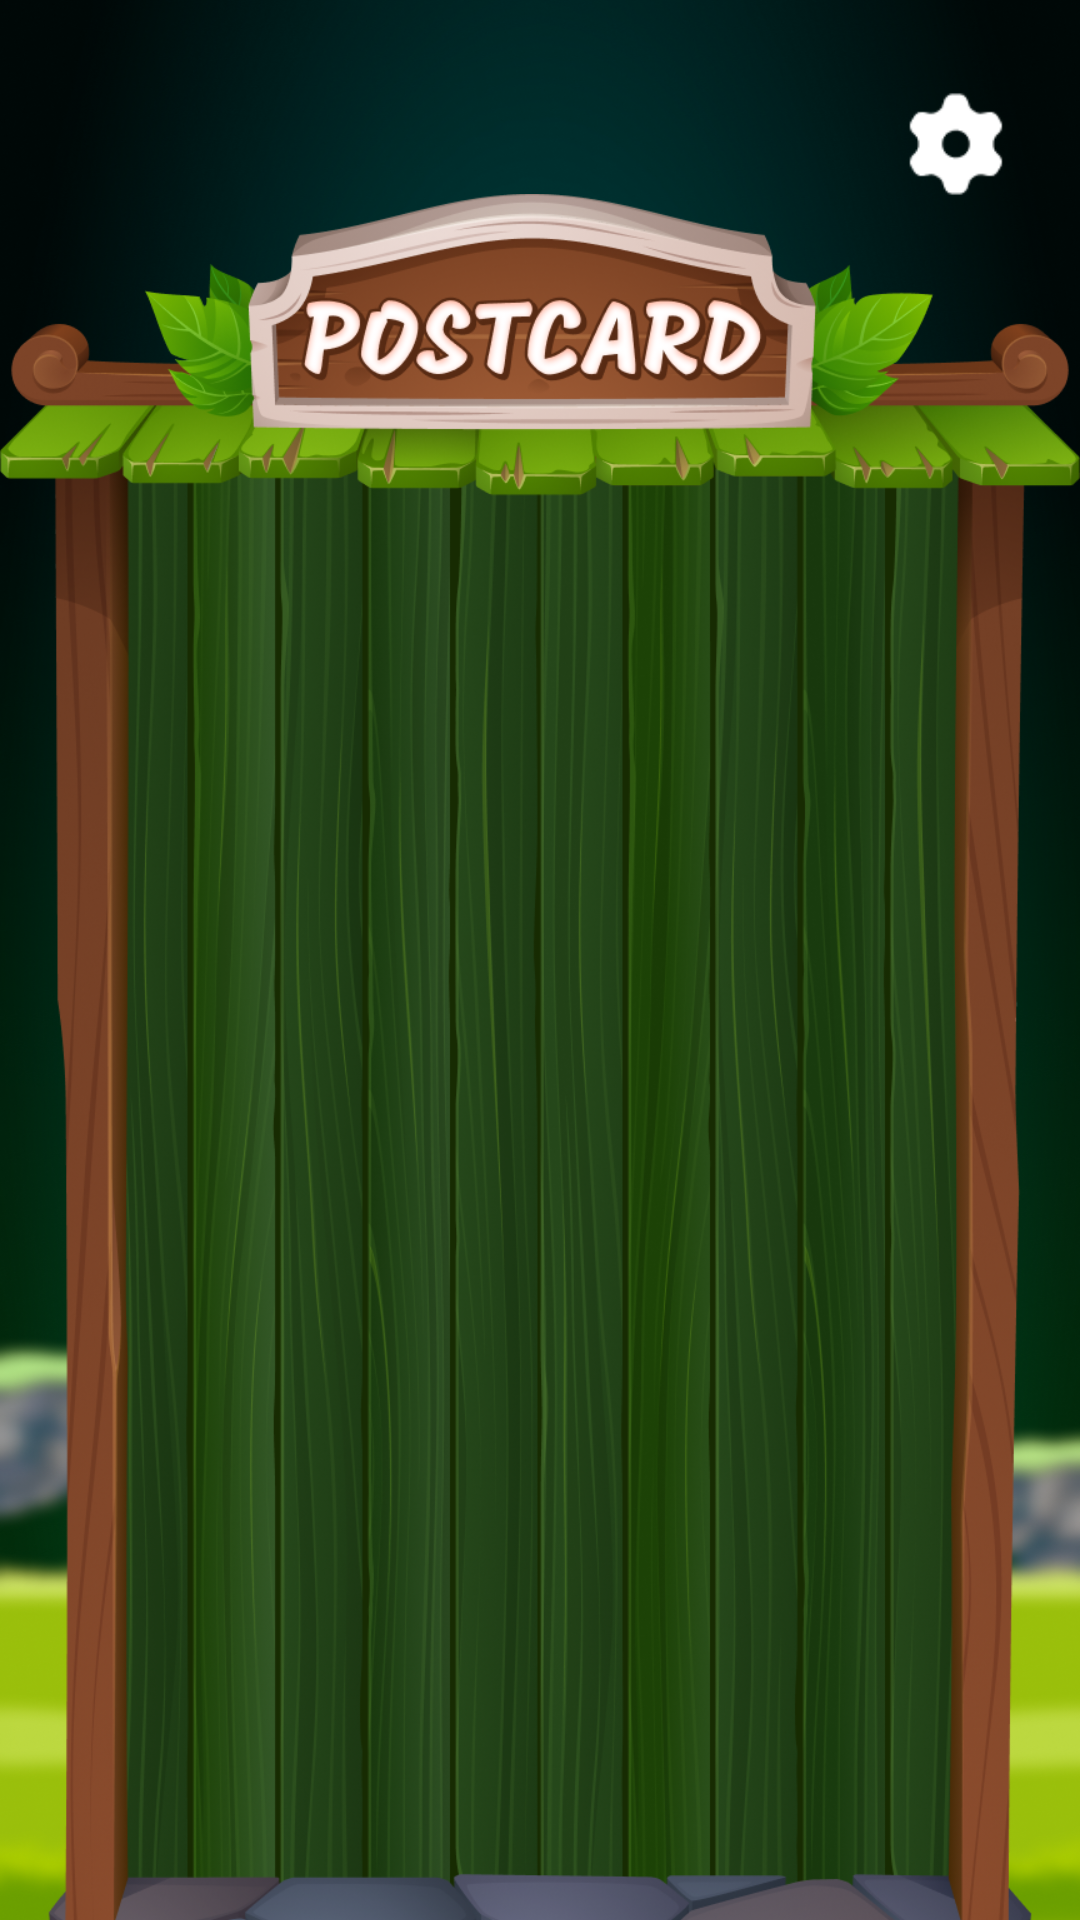

Icons on this 1080px x 1920px Android screen, each with its box as (x1, y1, x2, y2):
settings: (909, 93, 1003, 195)
